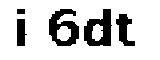6: (44, 4, 80, 49)
d: (84, 5, 112, 51)
i: (13, 5, 33, 54)
t: (115, 12, 141, 50)
